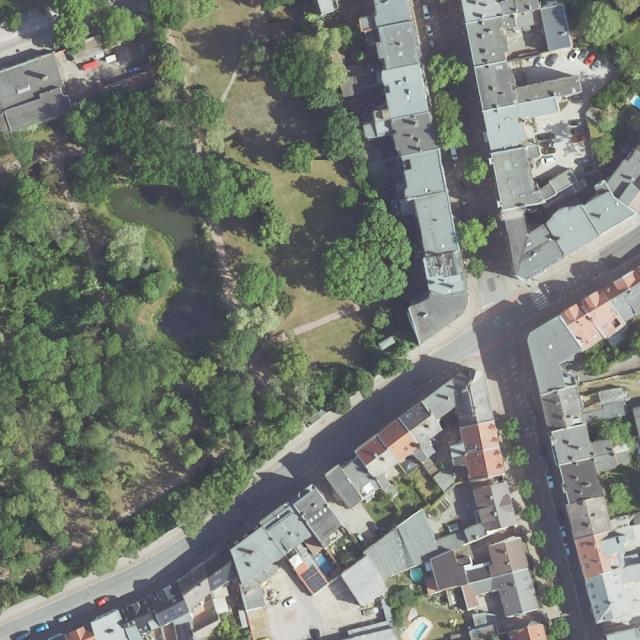PV: (300, 564, 327, 594), (267, 511, 294, 532), (163, 607, 184, 624), (175, 622, 193, 640)
